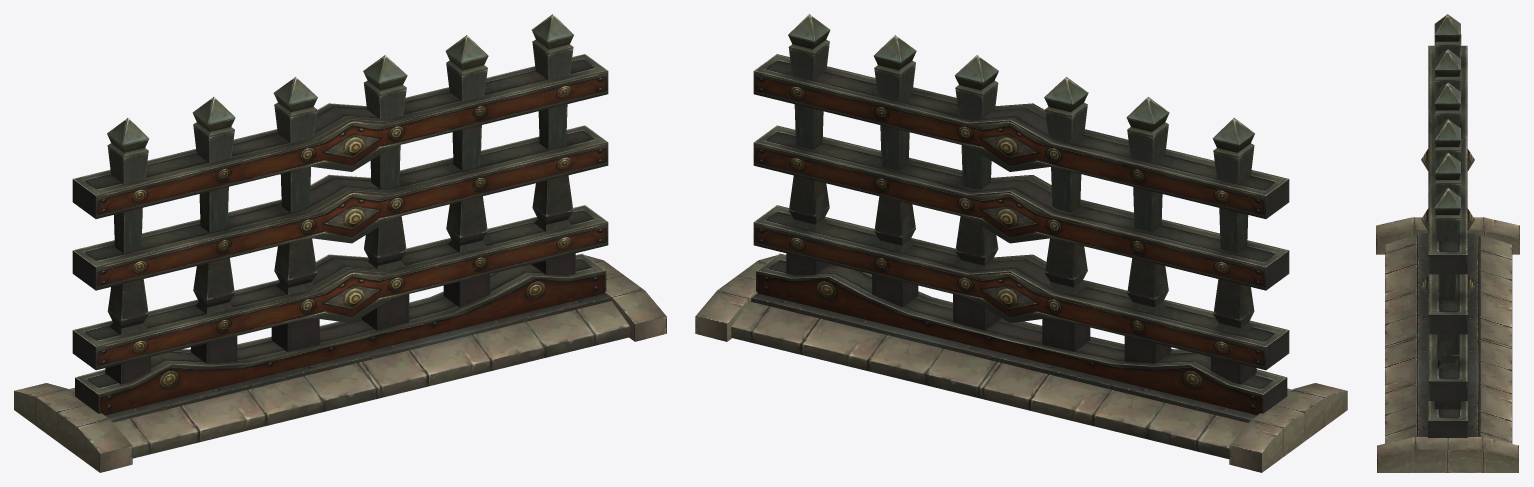
Rendered from jintf_wujian_14.FBX.
3 views of the same model, side by side, from view 1: azimuth 30°, elevation 25°; view 2: azimuth 150°, elevation 25°; view 3: azimuth 270°, elevation 25° (orthographic). The views are drawn at different scales.
Visible parts, largest first — view 1: jintf_wujian_14; view 2: jintf_wujian_14; view 3: jintf_wujian_14.
Boxes of the visible parts, bbox=[...] form: jintf_wujian_14: bbox=[14, 14, 666, 472]; jintf_wujian_14: bbox=[695, 14, 1347, 472]; jintf_wujian_14: bbox=[1376, 14, 1519, 472].
Bounding box in the file's own units: 558 × 288 × 147.
